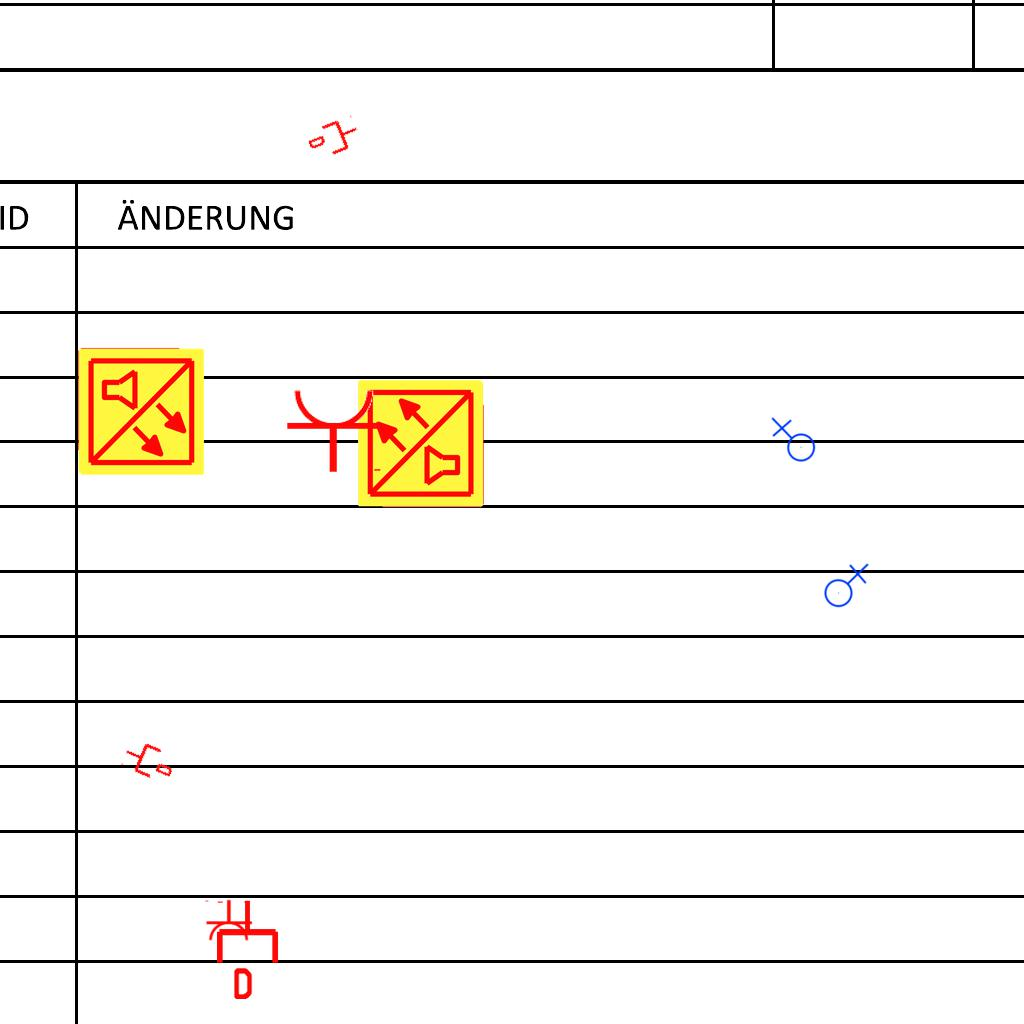Datenanschluss_einfach: (213, 899, 282, 999), (119, 735, 179, 787), (304, 112, 364, 164)
Elektroanschluss_allgemein_230V_Geraeteanschlussdose_230V: (820, 561, 869, 608), (769, 417, 816, 466)
OKW_Multisensormelder_(Kombination_optischer_Rauch-Kahlenmonoxid_Waerme-Melder): (355, 377, 487, 509), (75, 346, 207, 478)
Schukosteckdose_einfach: (285, 387, 385, 474), (203, 899, 253, 942)
